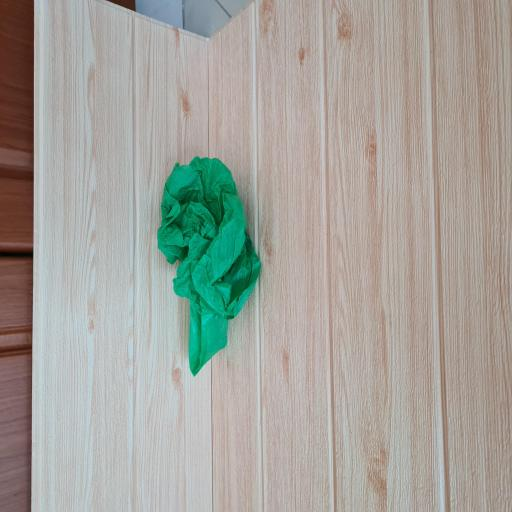plastic bag: (158, 155, 264, 379)
